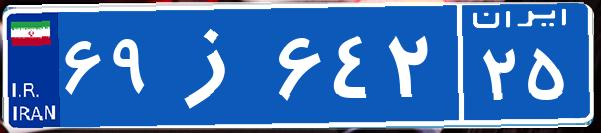2: (385, 28, 445, 110), (475, 38, 525, 113)
4: (330, 28, 385, 110)
5: (525, 38, 570, 115)
6: (273, 28, 330, 110), (57, 26, 110, 107)
9: (110, 28, 158, 105)
ز: (158, 15, 273, 115)
